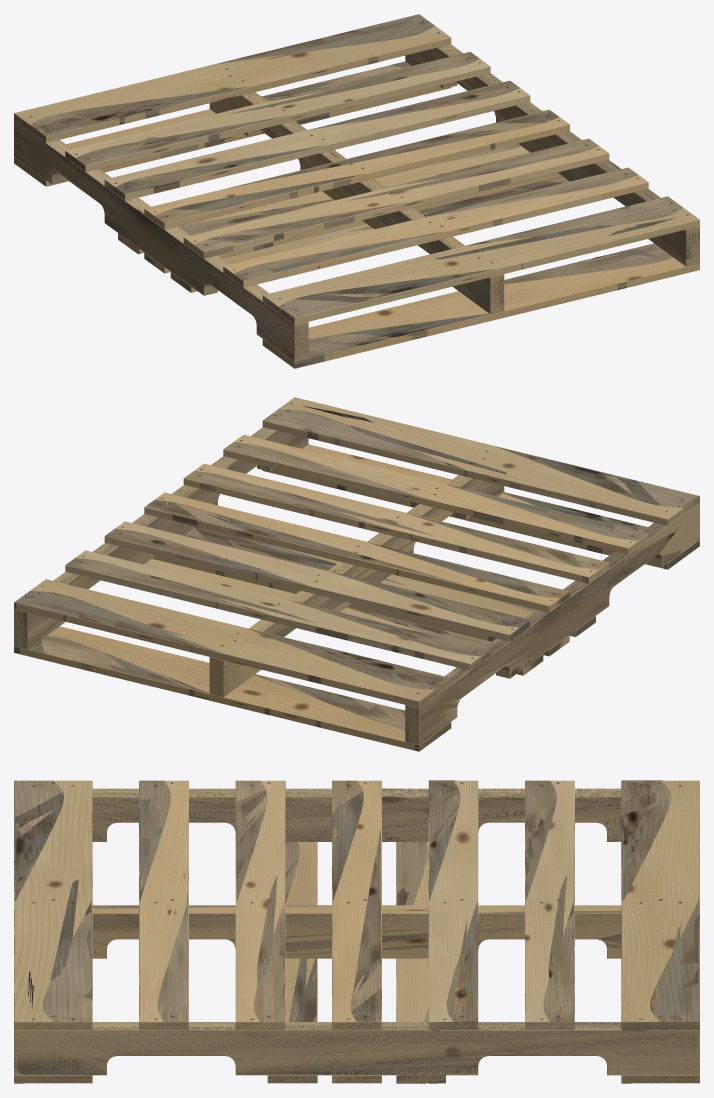
File: owner-pallets-lods.fbx
3 views of the same model, one above another, from view 1: azimuth 30°, elevation 25°; view 2: azimuth 150°, elevation 25°; view 3: azimuth 270°, elevation 25° (orthographic). The views are drawn at different scales.
Visible parts, largest first — view 1: 01_Fresh_Pine_LOD0, 02_Working_Wear_LOD0, 04_Repaired_LOD0, 03_Split_Battered_LOD0; view 2: 01_Fresh_Pine_LOD0, 02_Working_Wear_LOD0, 04_Repaired_LOD0, 03_Split_Battered_LOD0; view 3: 01_Fresh_Pine_LOD0, 02_Working_Wear_LOD0, 03_Split_Battered_LOD0, 04_Repaired_LOD0.
Part boxes in pixels (x1,y1,x2,y2): 01_Fresh_Pine_LOD0: (14,26,699,368); 02_Working_Wear_LOD0: (14,14,685,358); 04_Repaired_LOD0: (14,14,685,368); 03_Split_Battered_LOD0: (14,15,699,360); 01_Fresh_Pine_LOD0: (14,397,699,750); 02_Working_Wear_LOD0: (14,409,699,750); 04_Repaired_LOD0: (16,420,699,738); 03_Split_Battered_LOD0: (14,406,699,751); 01_Fresh_Pine_LOD0: (14,780,699,1083); 02_Working_Wear_LOD0: (14,780,699,1083); 03_Split_Battered_LOD0: (14,780,699,1083); 04_Repaired_LOD0: (14,780,699,1083).
Size of what is drawn, in the model's own units: 102 by 12.73 by 122.
